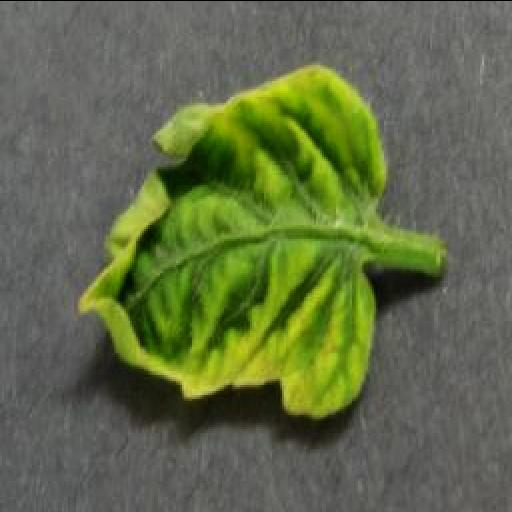disease_tomato: (73, 64, 387, 421)
